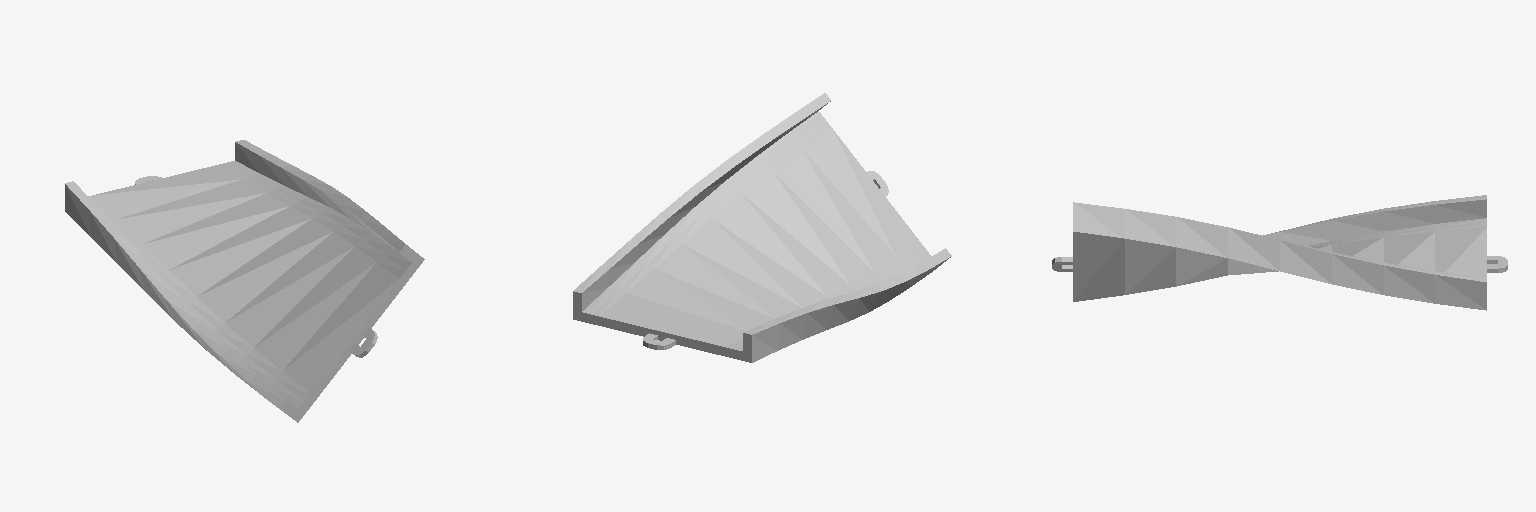
Rendered from track-road-wide-straight-skew-right.obj.
3 renders of one model, left to right at view 1: azimuth 30°, elevation 25°; view 2: azimuth 150°, elevation 25°; view 3: azimuth 270°, elevation 25°, orthographic.
Parts seen in each view (by area): view 1: track-road-wide-straight-skew-right; view 2: track-road-wide-straight-skew-right; view 3: track-road-wide-straight-skew-right.
Part boxes in pixels (x1,y1,x2,y2): track-road-wide-straight-skew-right: (65, 140, 424, 422); track-road-wide-straight-skew-right: (573, 93, 951, 362); track-road-wide-straight-skew-right: (1052, 195, 1507, 310).
Bounding box in the file's own units: 2.04 × 1.63 × 4.4.